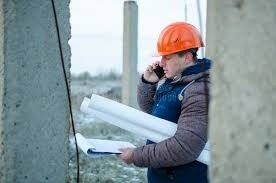helmet: (152, 21, 205, 58)
person with partial safety: (129, 20, 210, 182)
